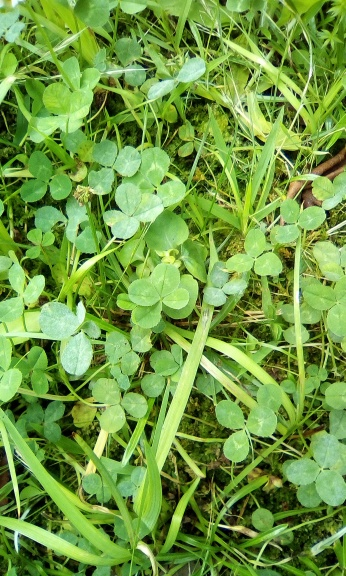4leaf: (127, 263, 190, 329), (102, 183, 164, 240)
